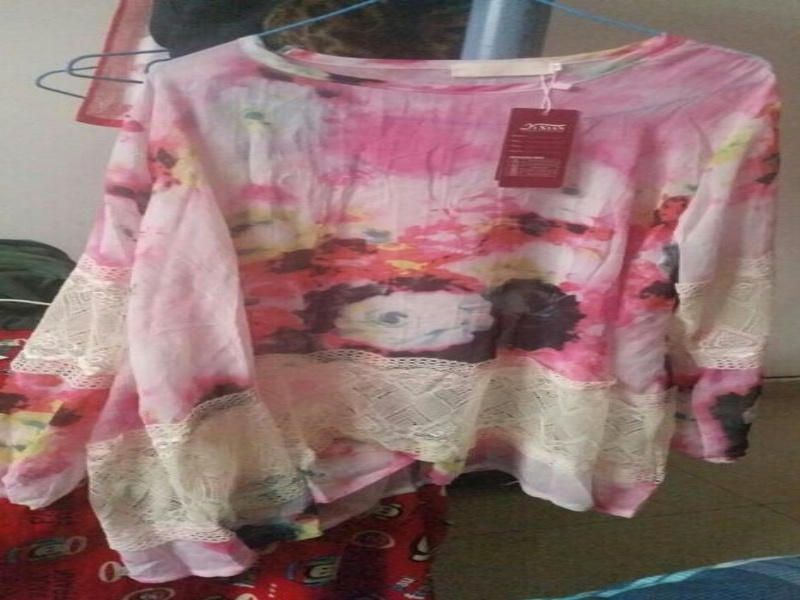long_sleeved_shirt: (0, 29, 793, 586)
